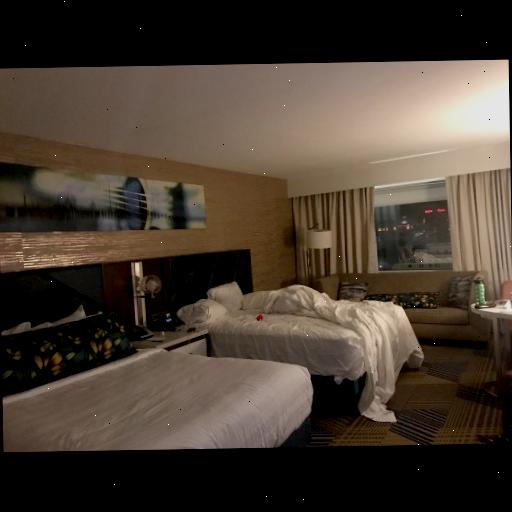clean_bed: (4, 259, 309, 451)
messy_bed: (149, 245, 421, 411)
